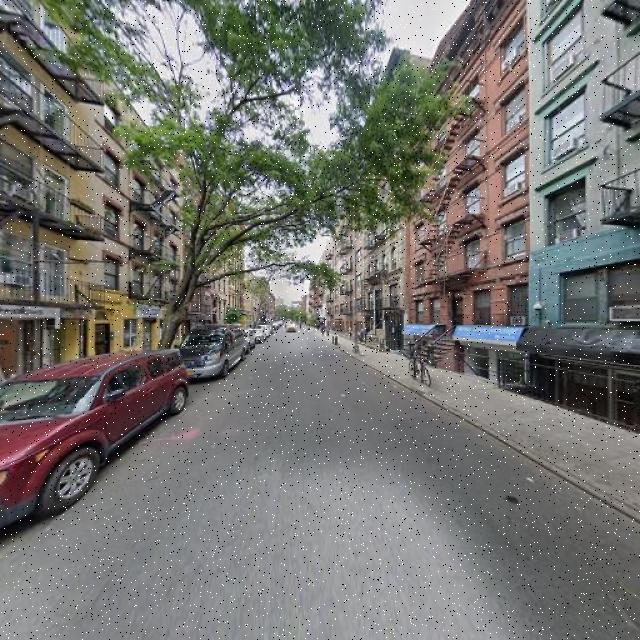Building: (410, 1, 529, 382), (534, 1, 640, 409), (1, 1, 95, 390)
